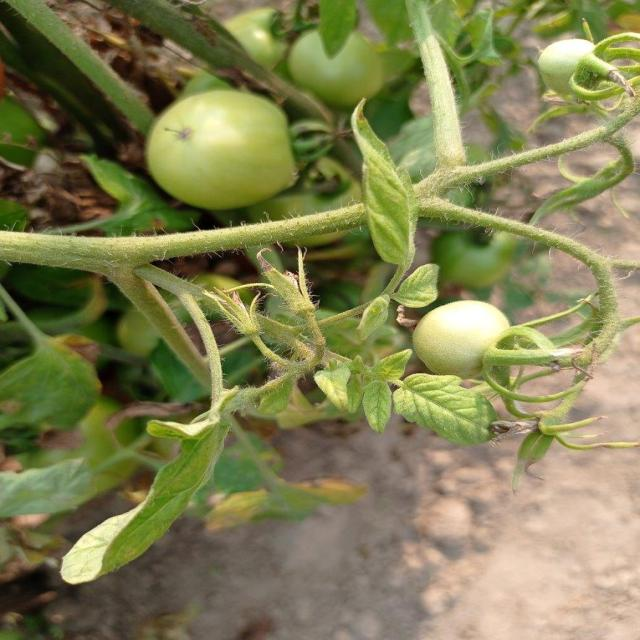Unripe: (149, 92, 305, 208), (410, 299, 527, 375)
